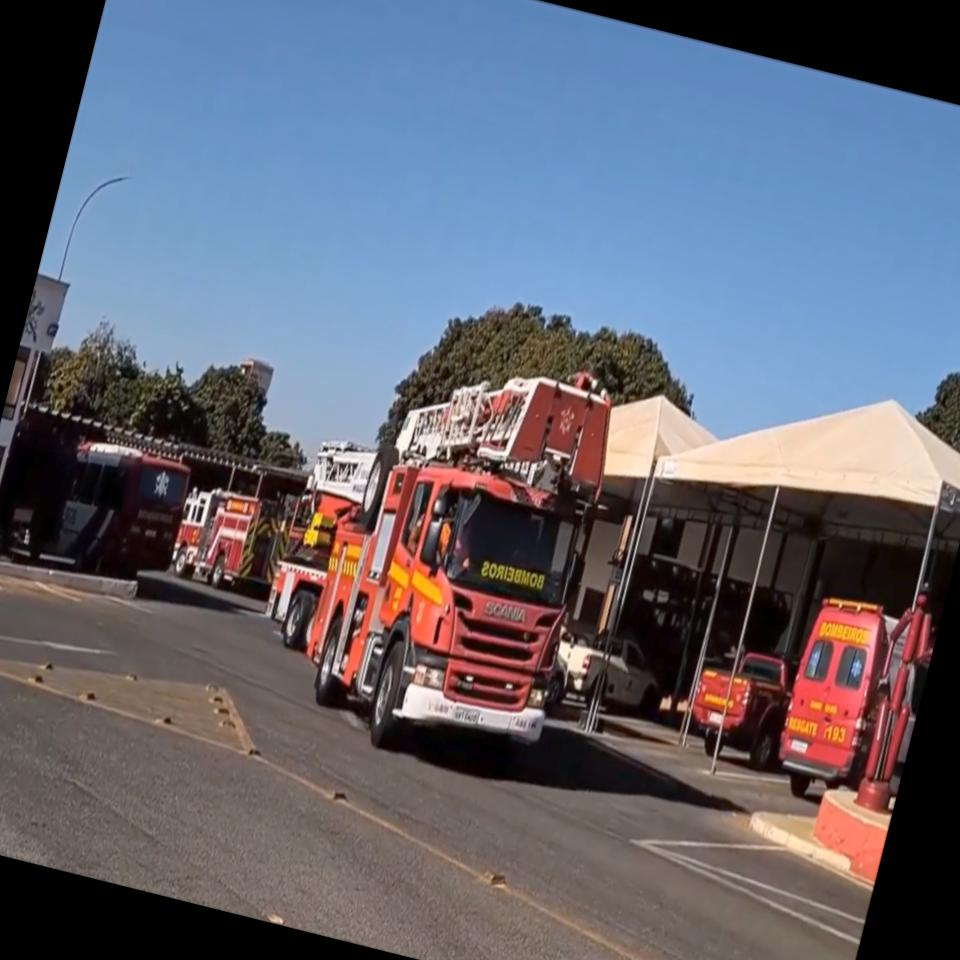viatura: (240, 308, 630, 781), (766, 590, 940, 820), (165, 477, 294, 601)
